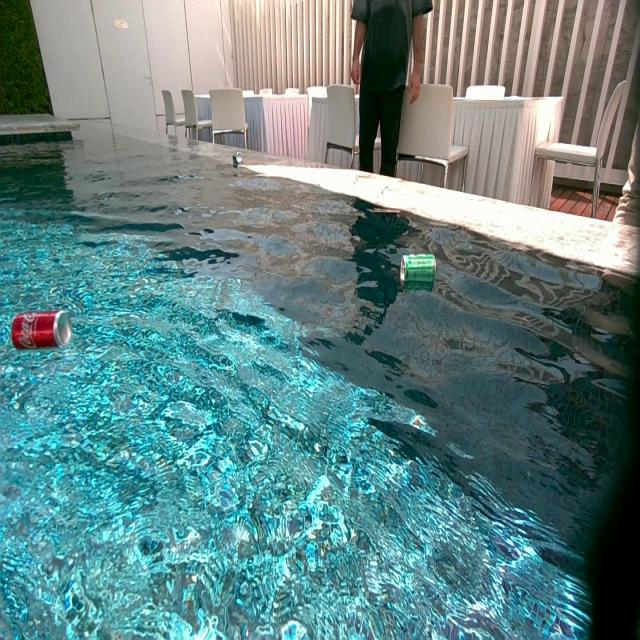Cans: (11, 312, 72, 352), (400, 251, 441, 286), (232, 151, 243, 166)
